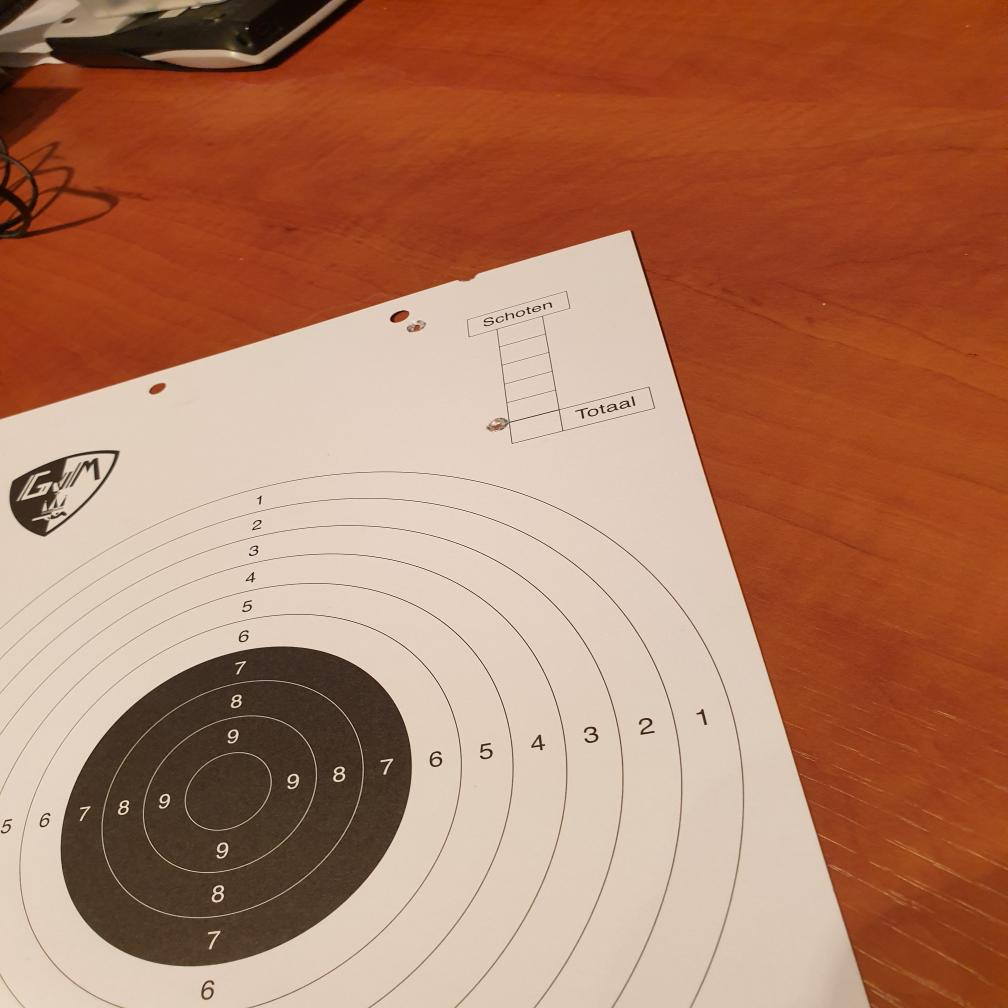0: (485, 416, 509, 434), (403, 320, 428, 334), (457, 272, 478, 283)
Target: (0, 466, 751, 1008)
black_contour: (60, 646, 413, 966)
